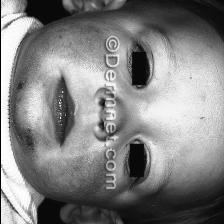Non-Cancerous Skin Condition: (32, 142, 102, 213), (33, 19, 107, 86), (8, 75, 28, 150)
